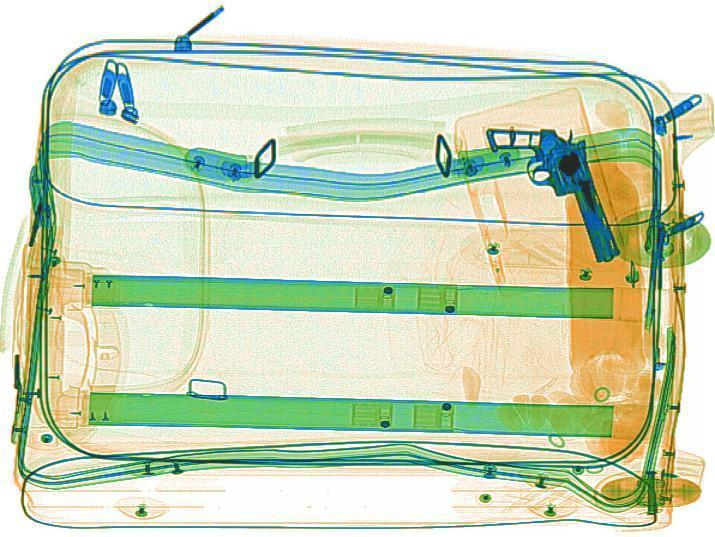Gun: (479, 110, 634, 275)
